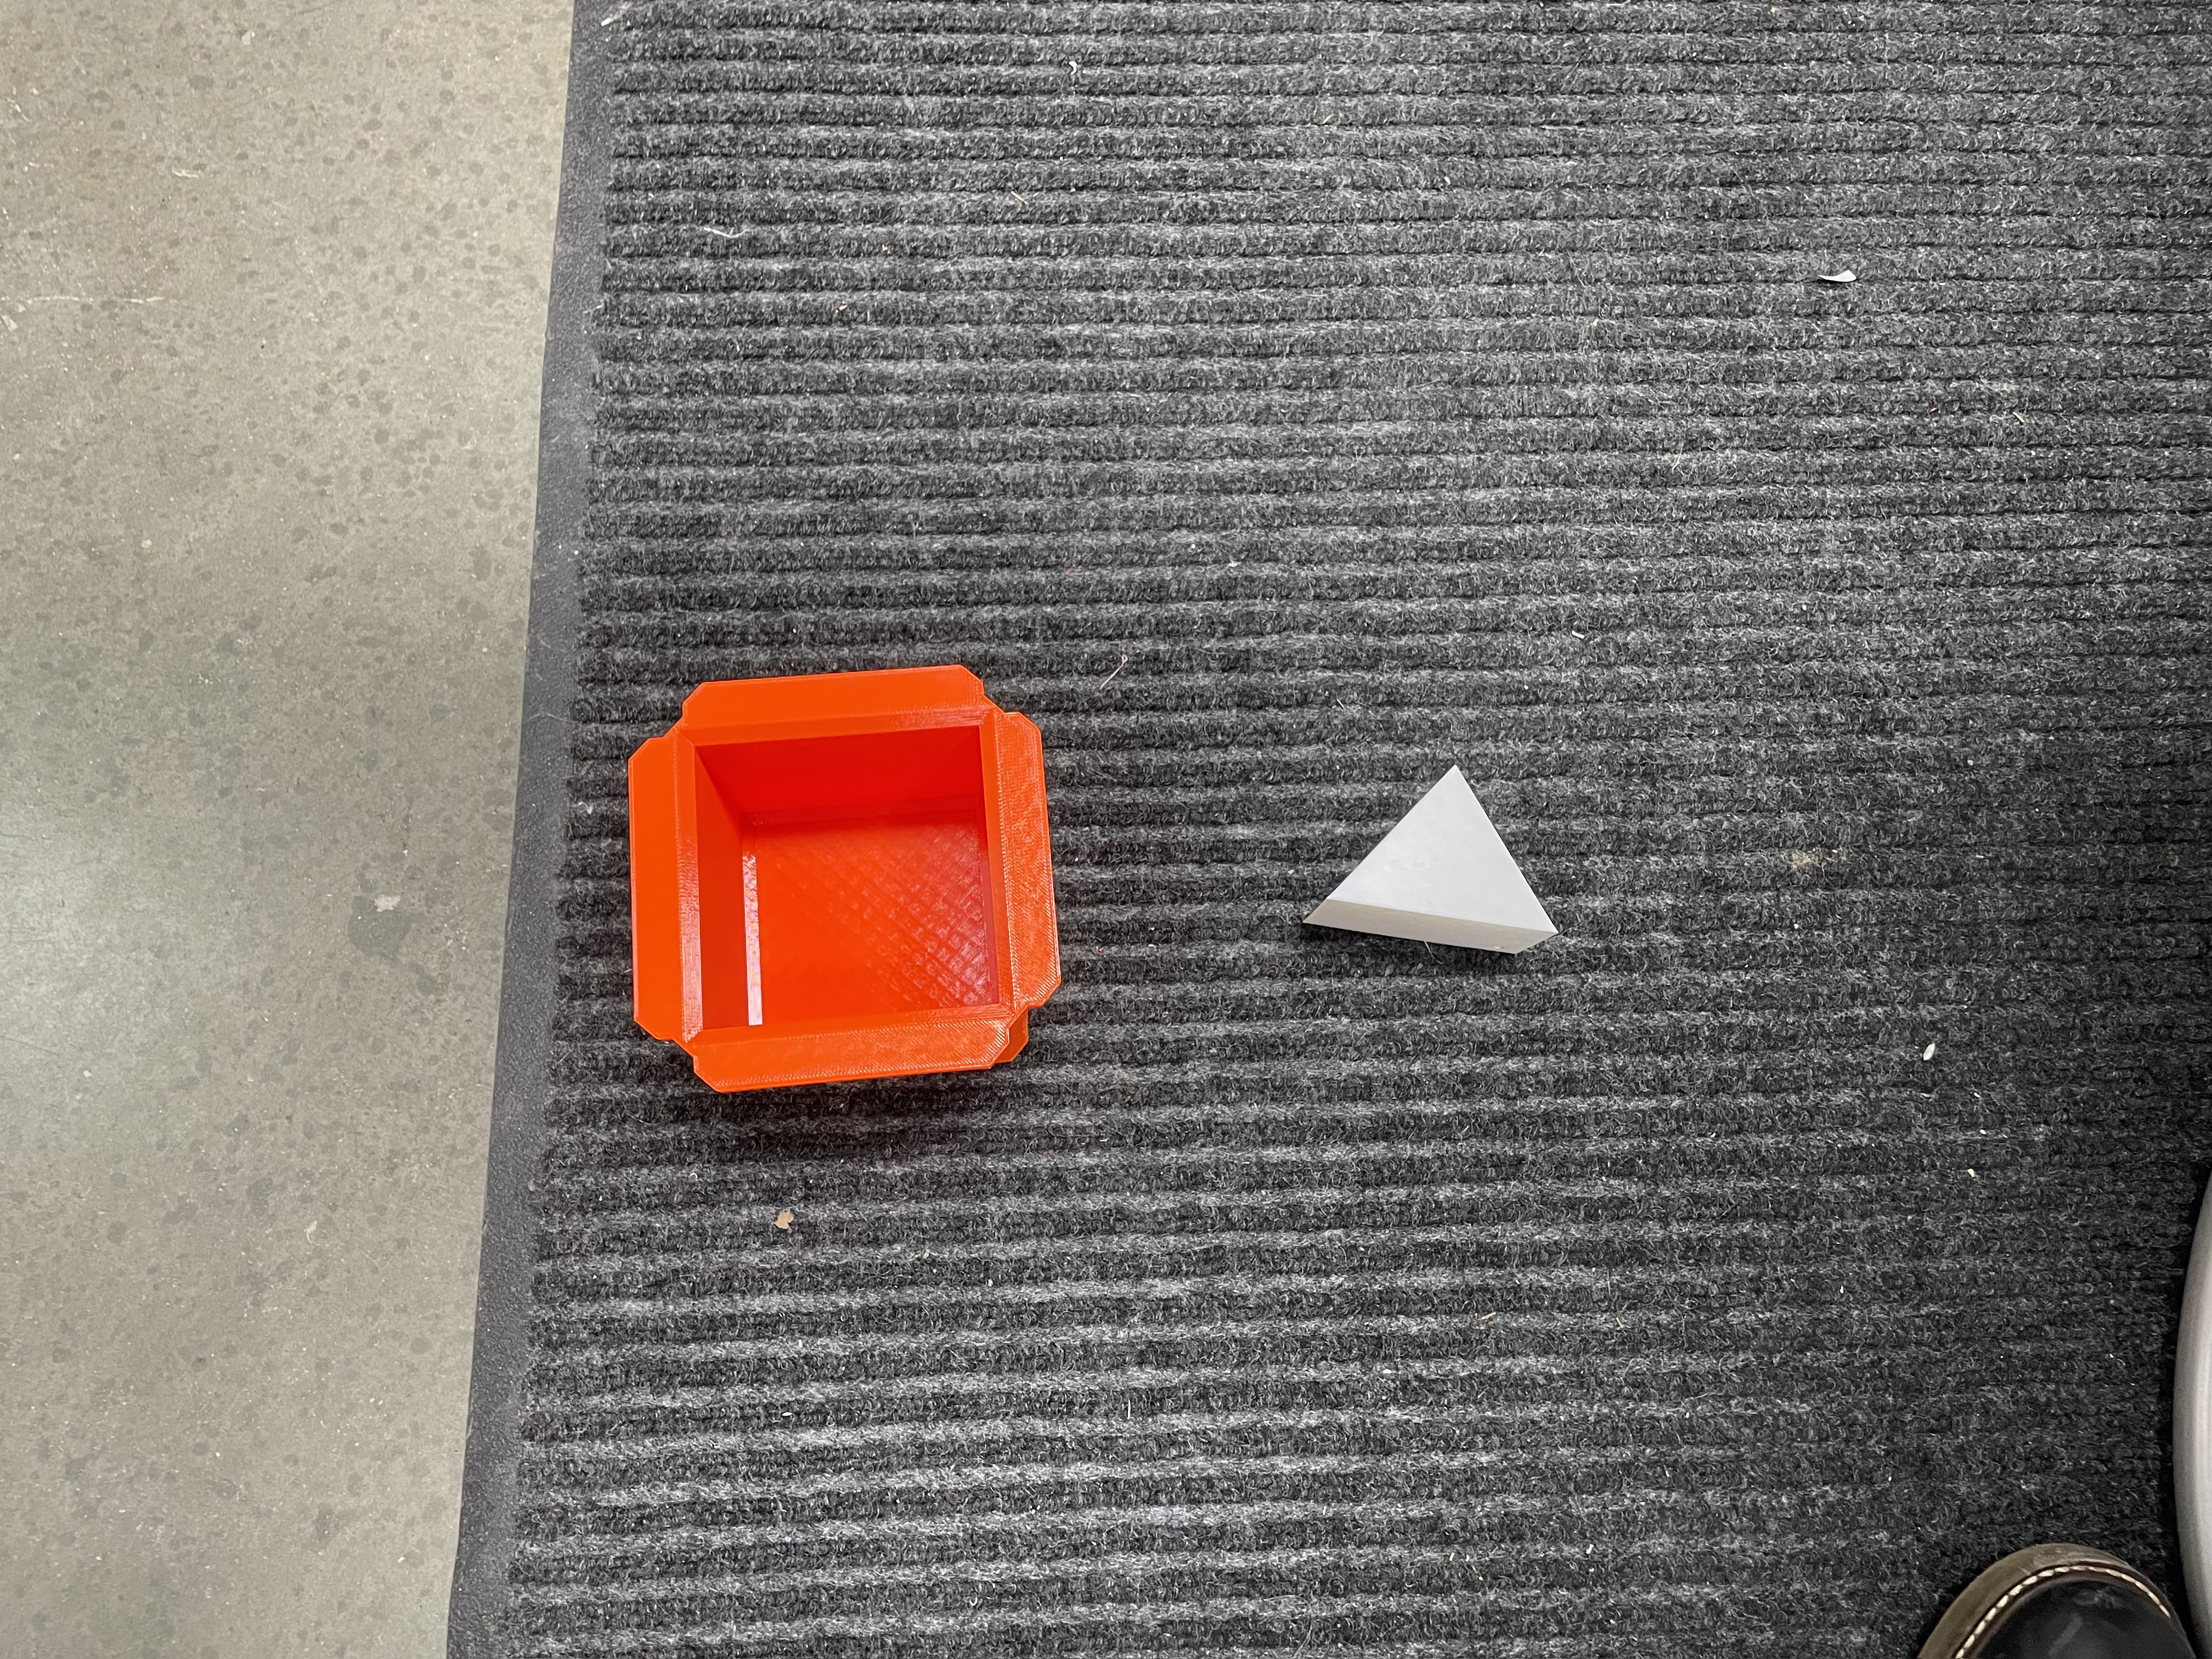payload1: (603, 659, 1090, 1112)
payload2: (1298, 744, 1606, 990)
